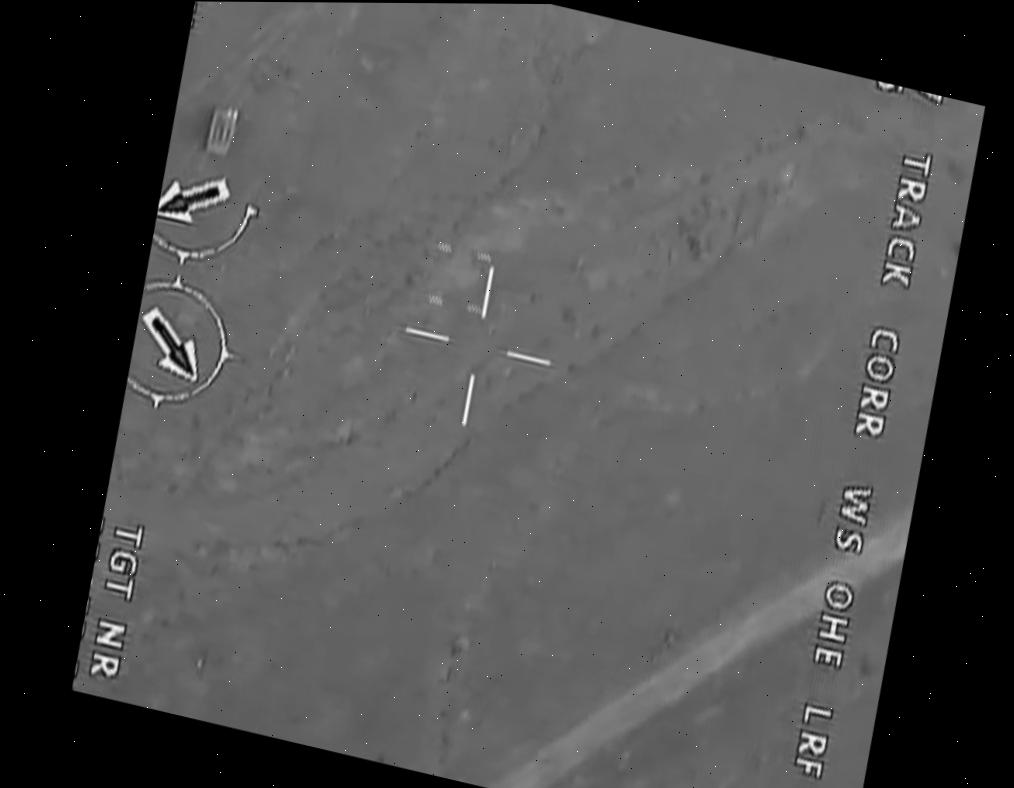armored_car: (195, 99, 244, 165)
